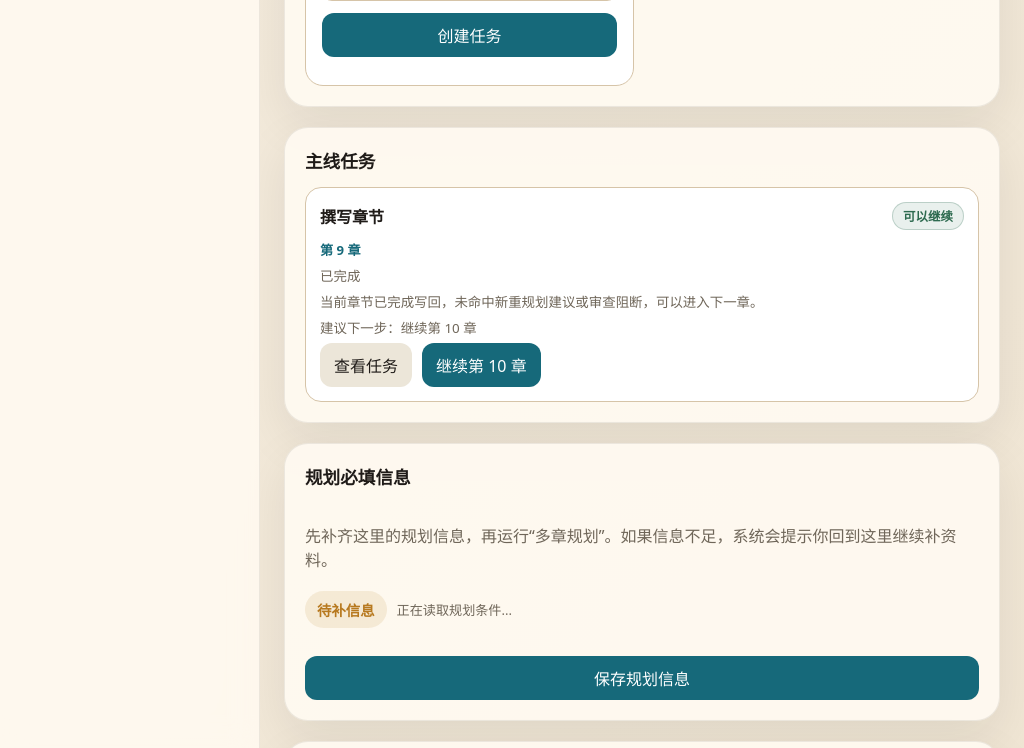
Test case: overview primary action surfaces request errors
(page scrolled)
Click the button "继续第 10 章" at (481, 365), box [422,343,541,387]
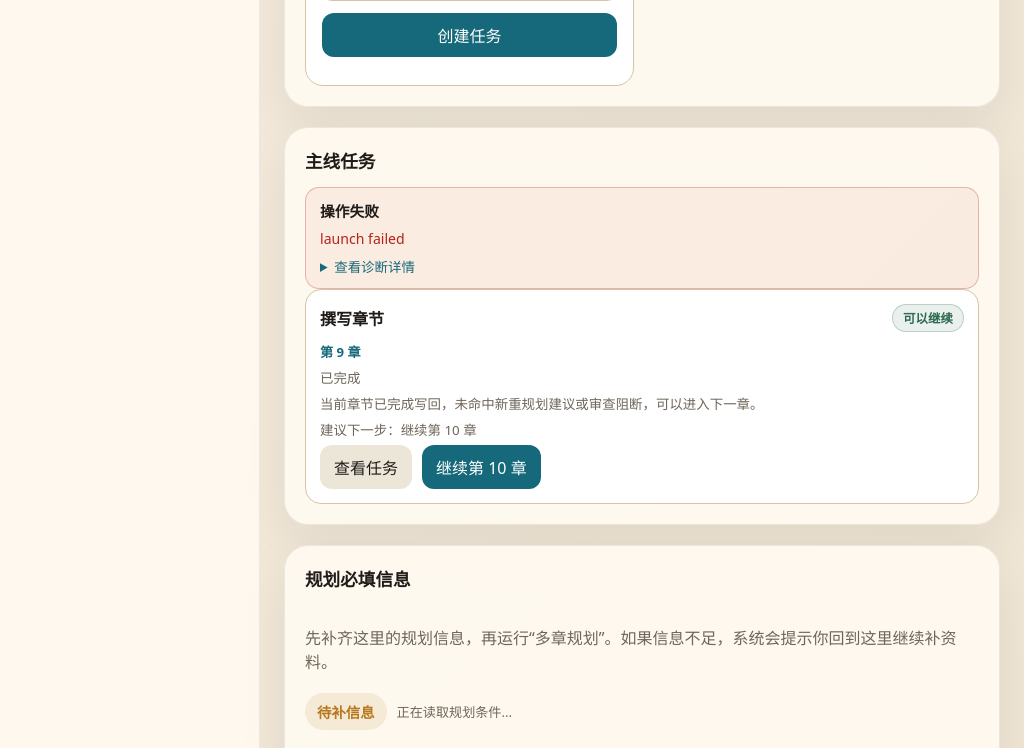
Expected: the text "launch failed" is shown, [320,229,405,248]
